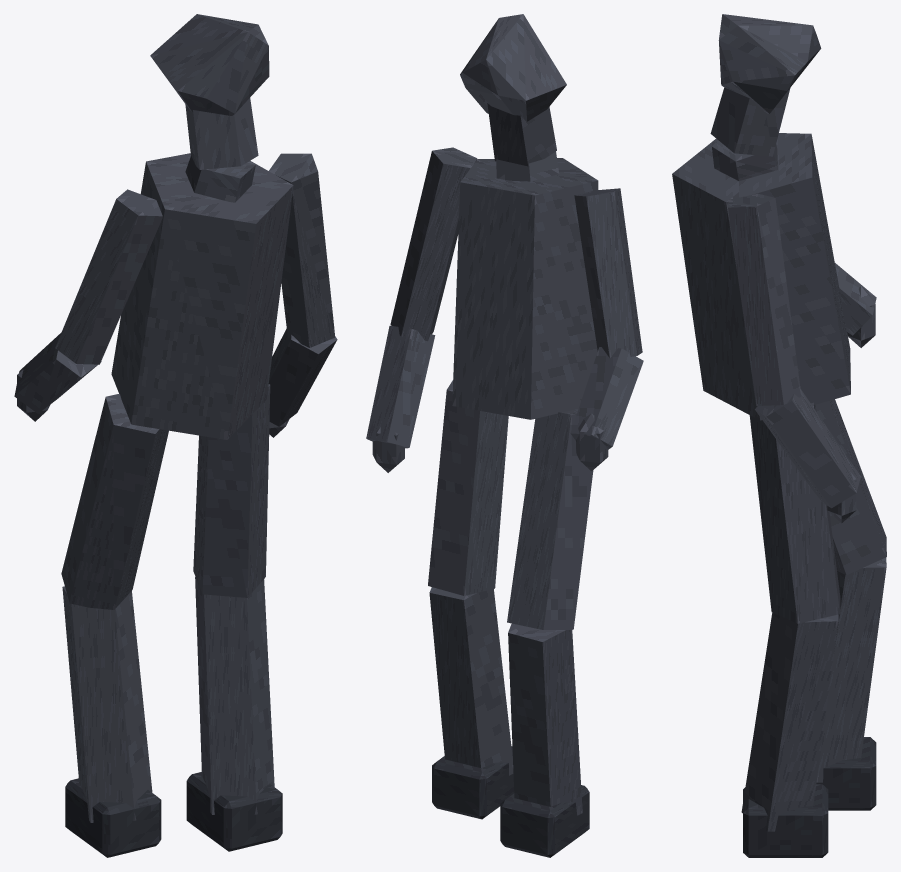
The model's file is f_glassedbody_10.glb.
3 renders of one model, left to right at view 1: azimuth 30°, elevation 25°; view 2: azimuth 150°, elevation 25°; view 3: azimuth 270°, elevation 25°, orthographic. The views are drawn at different scales.
Parts seen in each view (by area): view 1: block_angular-torso-1, block_faceted-glass-leg-1 (×2), block_faceted-glass-leg-2 (×2), block_angular-glass-arm-1 (×2), block_solid-glass-foot (×2), block_angular-black-glass-head, block_angular-glass-arm-2 (×2), block_vitrified-neck-2, block_vitrified-neck-1; view 2: block_angular-torso-1, block_faceted-glass-leg-2 (×2), block_faceted-glass-leg-1 (×2), block_angular-glass-arm-1 (×2), block_angular-glass-arm-2 (×2), block_solid-glass-foot (×2), block_angular-black-glass-head, block_vitrified-neck-2, block_glass-hand (×2), block_vitrified-neck-1; view 3: block_angular-torso-1, block_faceted-glass-leg-1 (×2), block_faceted-glass-leg-2 (×2), block_angular-glass-arm-1, block_solid-glass-foot (×2), block_angular-glass-arm-2 (×2), block_angular-black-glass-head, block_vitrified-neck-2, block_vitrified-neck-1, block_glass-hand (×2).
Part boxes in pixels (<box>): block_angular-torso-1: <box>111,153,293,439</box>; block_faceted-glass-leg-1 (×2): <box>62,577,274,822</box>; block_faceted-glass-leg-2 (×2): <box>61,384,270,609</box>; block_angular-glass-arm-1 (×2): <box>55,153,335,364</box>; block_solid-glass-foot (×2): <box>65,772,282,857</box>; block_angular-black-glass-head: <box>150,14,269,115</box>; block_angular-glass-arm-2 (×2): <box>14,329,337,426</box>; block_vitrified-neck-2: <box>185,98,258,169</box>; block_vitrified-neck-1: <box>185,155,255,202</box>; block_angular-torso-1: <box>452,158,598,419</box>; block_faceted-glass-leg-2 (×2): <box>428,380,593,629</box>; block_faceted-glass-leg-1 (×2): <box>429,587,582,815</box>; block_angular-glass-arm-1 (×2): <box>390,147,642,357</box>; block_angular-glass-arm-2 (×2): <box>366,325,643,449</box>; block_solid-glass-foot (×2): <box>432,746,589,857</box>; block_angular-black-glass-head: <box>460,14,566,121</box>; block_vitrified-neck-2: <box>487,103,556,166</box>; block_glass-hand (×2): <box>372,413,608,472</box>; block_vitrified-neck-1: <box>496,151,559,181</box>; block_angular-torso-1: <box>672,133,850,420</box>; block_faceted-glass-leg-1 (×2): <box>741,557,886,831</box>; block_faceted-glass-leg-2 (×2): <box>749,399,886,623</box>; block_angular-glass-arm-1: <box>728,193,801,405</box>; block_solid-glass-foot (×2): <box>743,737,876,857</box>; block_angular-glass-arm-2 (×2): <box>755,263,876,508</box>; block_angular-black-glass-head: <box>718,14,821,113</box>; block_vitrified-neck-2: <box>710,87,790,156</box>; block_vitrified-neck-1: <box>711,140,777,180</box>; block_glass-hand (×2): <box>827,286,875,523</box>.
Size of the model in its own units: 0.5913 by 1.69 by 0.3997.
Materials: 1 (1 with a texture image).
